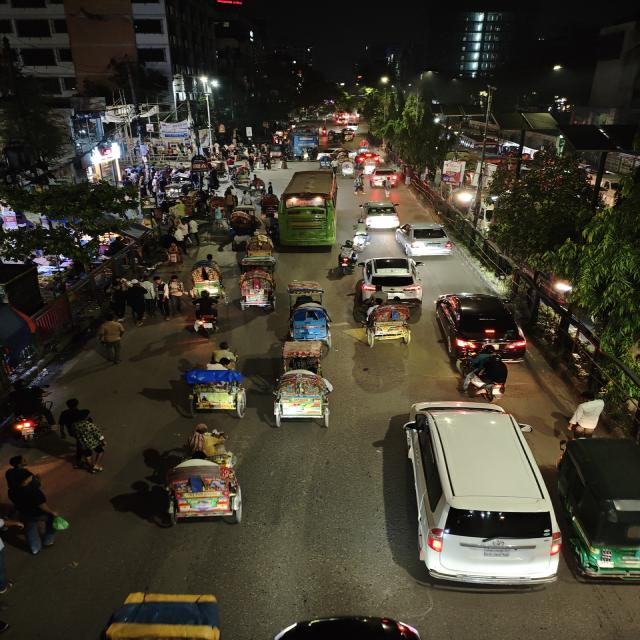bus: (274, 168, 340, 252), (290, 124, 321, 148)
car: (397, 396, 556, 594), (433, 290, 529, 360), (360, 255, 427, 297), (396, 220, 456, 258), (356, 200, 401, 230), (368, 167, 401, 189), (356, 150, 381, 162)
cng: (555, 436, 640, 588)
motorcycle: (2, 381, 52, 446), (458, 349, 513, 403), (187, 294, 220, 341), (332, 239, 360, 273), (349, 220, 372, 248)
pedestrian: (0, 454, 67, 557), (57, 400, 111, 474), (566, 391, 608, 437), (91, 315, 128, 363), (123, 280, 149, 326), (152, 275, 178, 317), (104, 281, 132, 319), (165, 275, 187, 313), (162, 239, 187, 268), (183, 217, 204, 246), (248, 173, 265, 194), (223, 186, 239, 207), (352, 174, 366, 196), (381, 177, 394, 198), (277, 155, 289, 170), (261, 155, 272, 171)
rickshaw: (150, 428, 249, 528), (264, 351, 342, 431), (169, 362, 252, 421), (356, 295, 414, 349), (286, 283, 335, 346), (236, 257, 278, 313), (192, 256, 226, 294), (226, 208, 259, 232), (256, 192, 280, 220), (245, 234, 275, 256), (338, 159, 355, 179), (316, 154, 334, 170)
